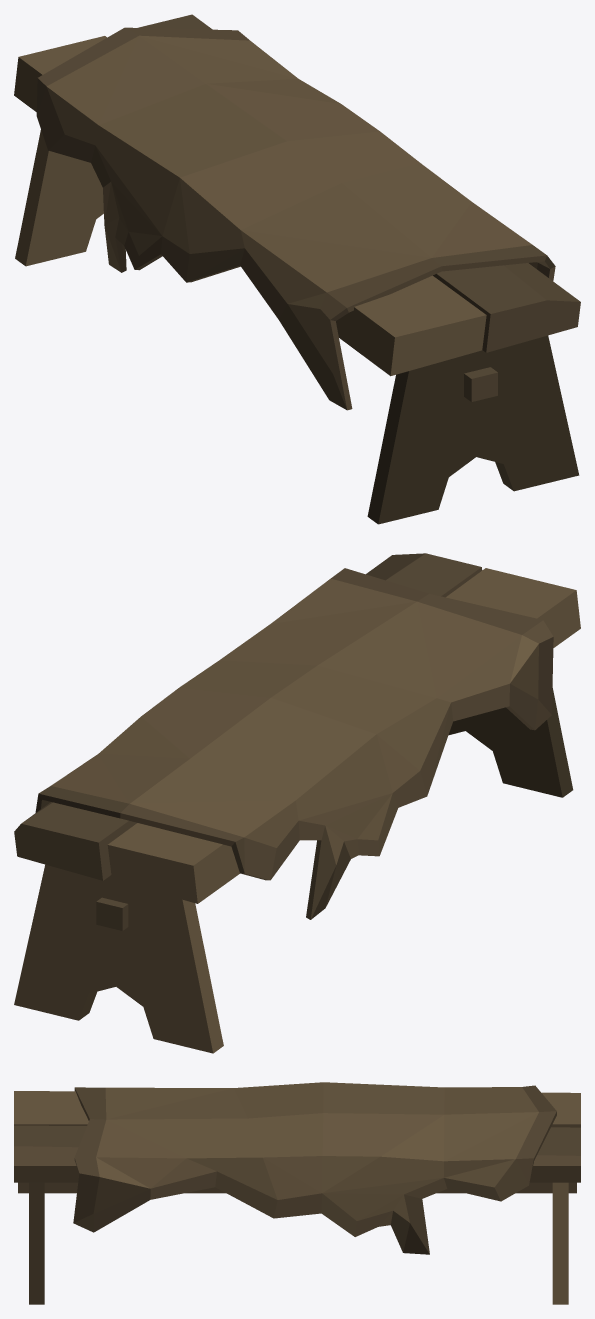
Rendered from EA03_Prop_Town_Bench_01b.glb.
3 renders of one model, top to bottom at view 1: azimuth 30°, elevation 25°; view 2: azimuth 150°, elevation 25°; view 3: azimuth 270°, elevation 25°, orthographic. The views are drawn at different scales.
Parts seen in each view (by area): view 1: EA03_Prop_Town_Bench_01b; view 2: EA03_Prop_Town_Bench_01b; view 3: EA03_Prop_Town_Bench_01b.
Boxes of the visible parts, <box> form: EA03_Prop_Town_Bench_01b: <box>14,14,580,524</box>; EA03_Prop_Town_Bench_01b: <box>14,553,580,1053</box>; EA03_Prop_Town_Bench_01b: <box>14,1082,580,1304</box>.
Bounding box in the file's own units: 0.4962 × 0.4171 × 1.36.
Materials: 1 (1 with a texture image).
